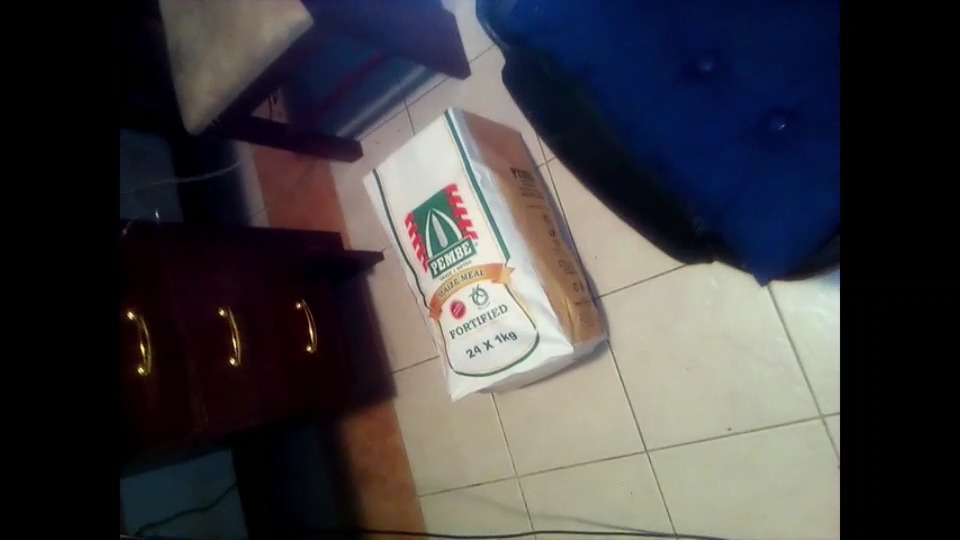maize_flour_green_label: (364, 108, 606, 398)
